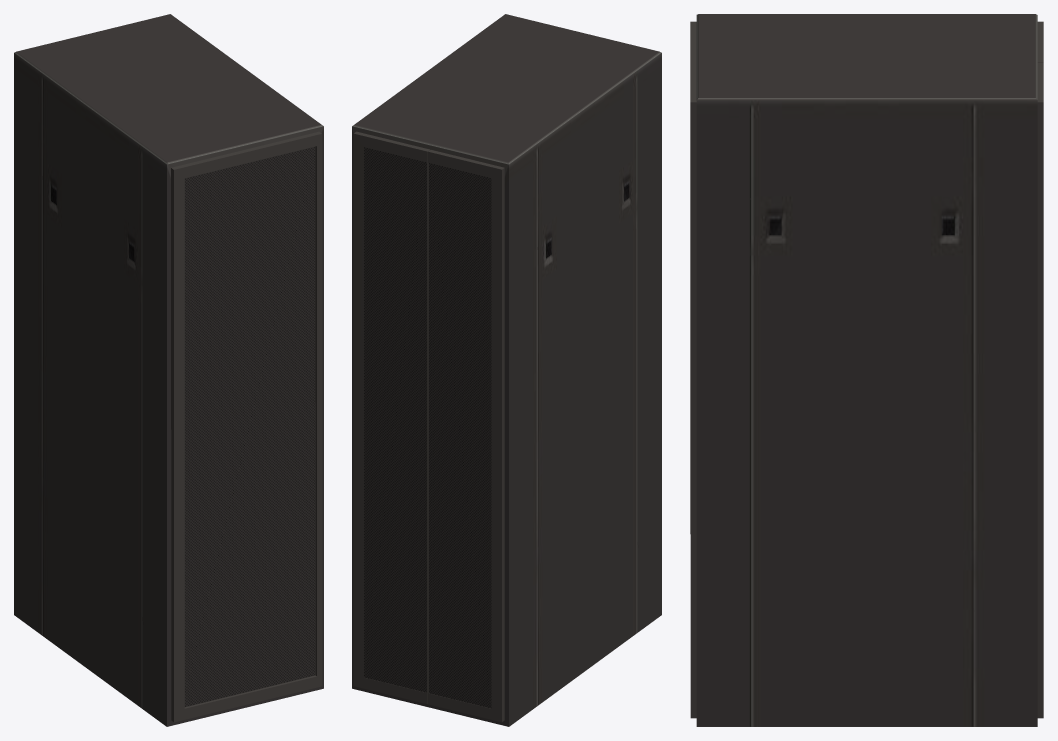
3 views of the same model, side by side, from view 1: azimuth 30°, elevation 25°; view 2: azimuth 150°, elevation 25°; view 3: azimuth 270°, elevation 25° (orthographic). The views are drawn at different scales.
Parts seen in each view (by area): view 1: Lo-BODY_01; view 2: Lo-BODY_01; view 3: Lo-BODY_01.
Part boxes in pixels (x1=…): Lo-BODY_01: x1=14, y1=14, x2=323, y2=726; Lo-BODY_01: x1=352, y1=14, x2=661, y2=726; Lo-BODY_01: x1=690, y1=14, x2=1043, y2=726.
Bounding box in the file's own units: 0.5929 × 2.04 × 1.04.
3 materials, 3 textured.
